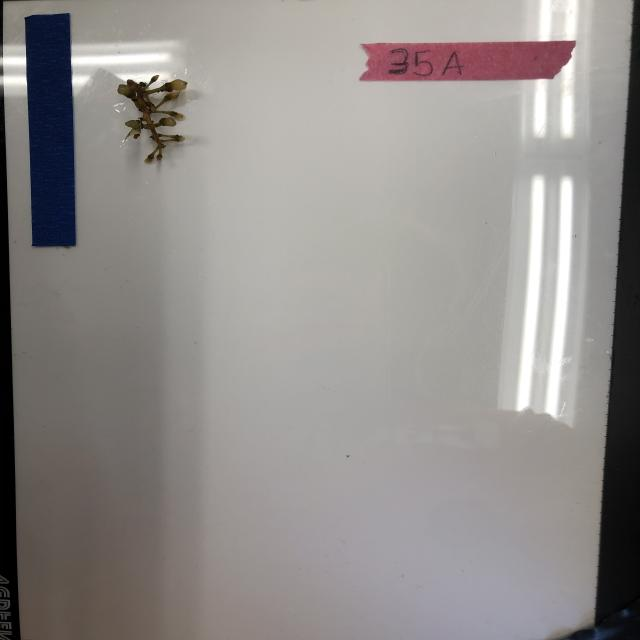index: (358, 37, 576, 85)
measure_label: (23, 11, 82, 250)
rachis_cluster: (110, 68, 210, 168)
